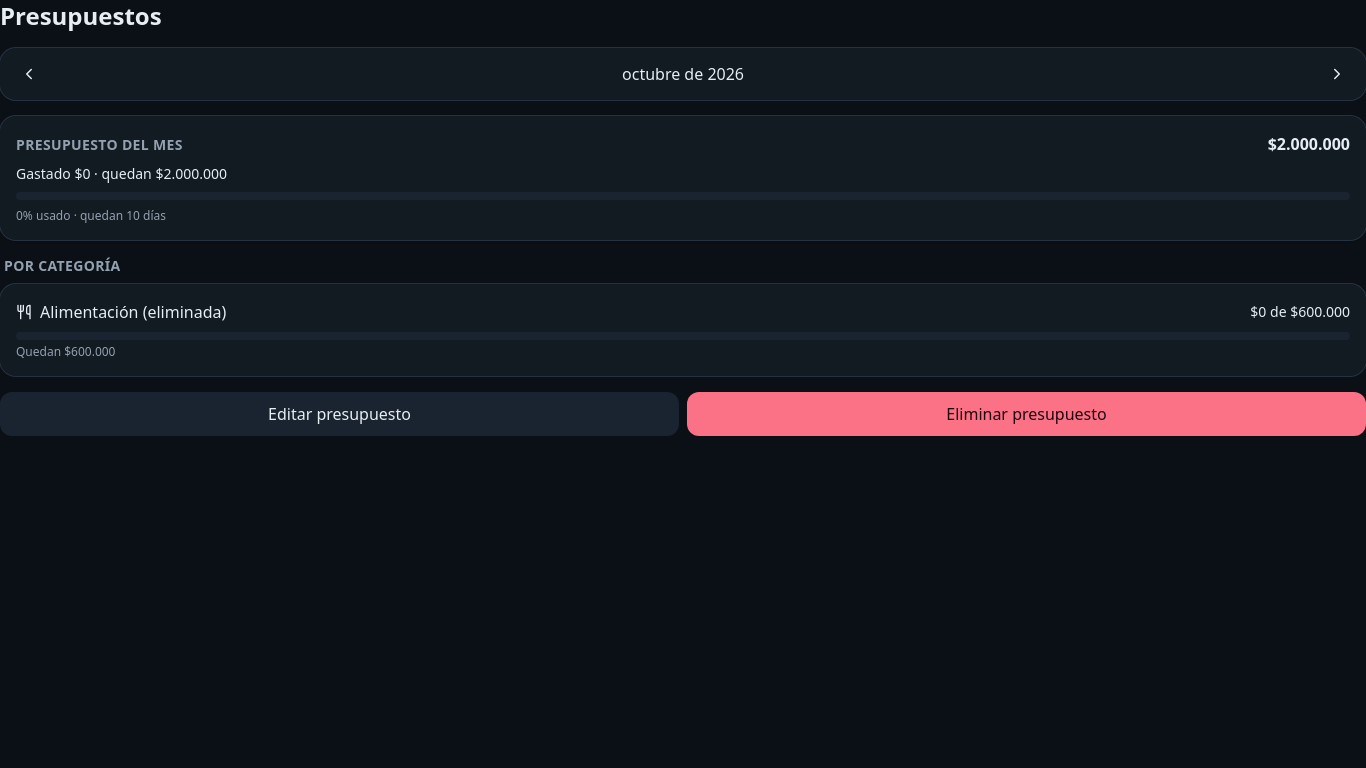
Scenario: BudgetsPage (spec 8.9) › marks deleted categories in the editor
This screenshot has width=1366, height=768.
Click the button "Editar presupuesto" at (340, 414), box [0,392,679,436]
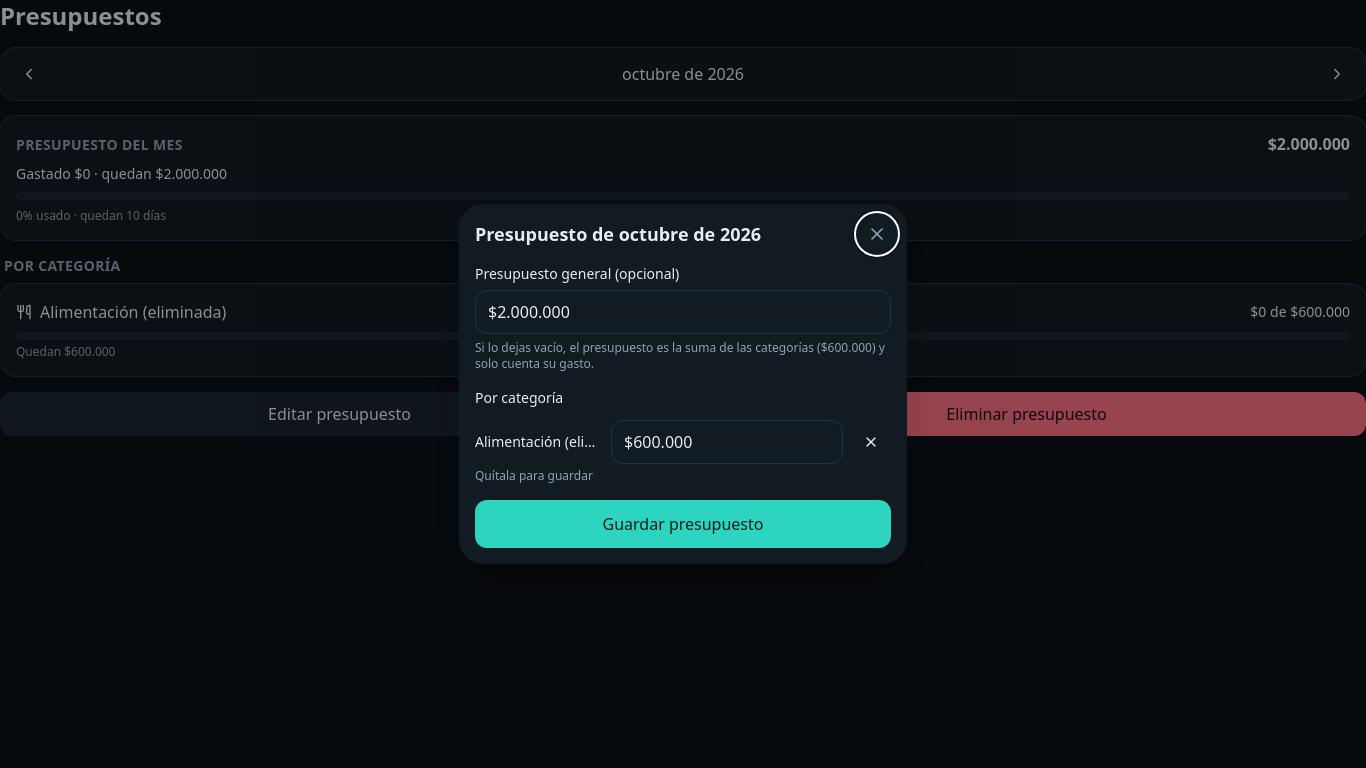
Expected: the field labelled "Alimentación (eliminada)" is shown, [611,420,843,464]
Expected: the text "Quítala para guardar" is shown, [475,467,593,484]
